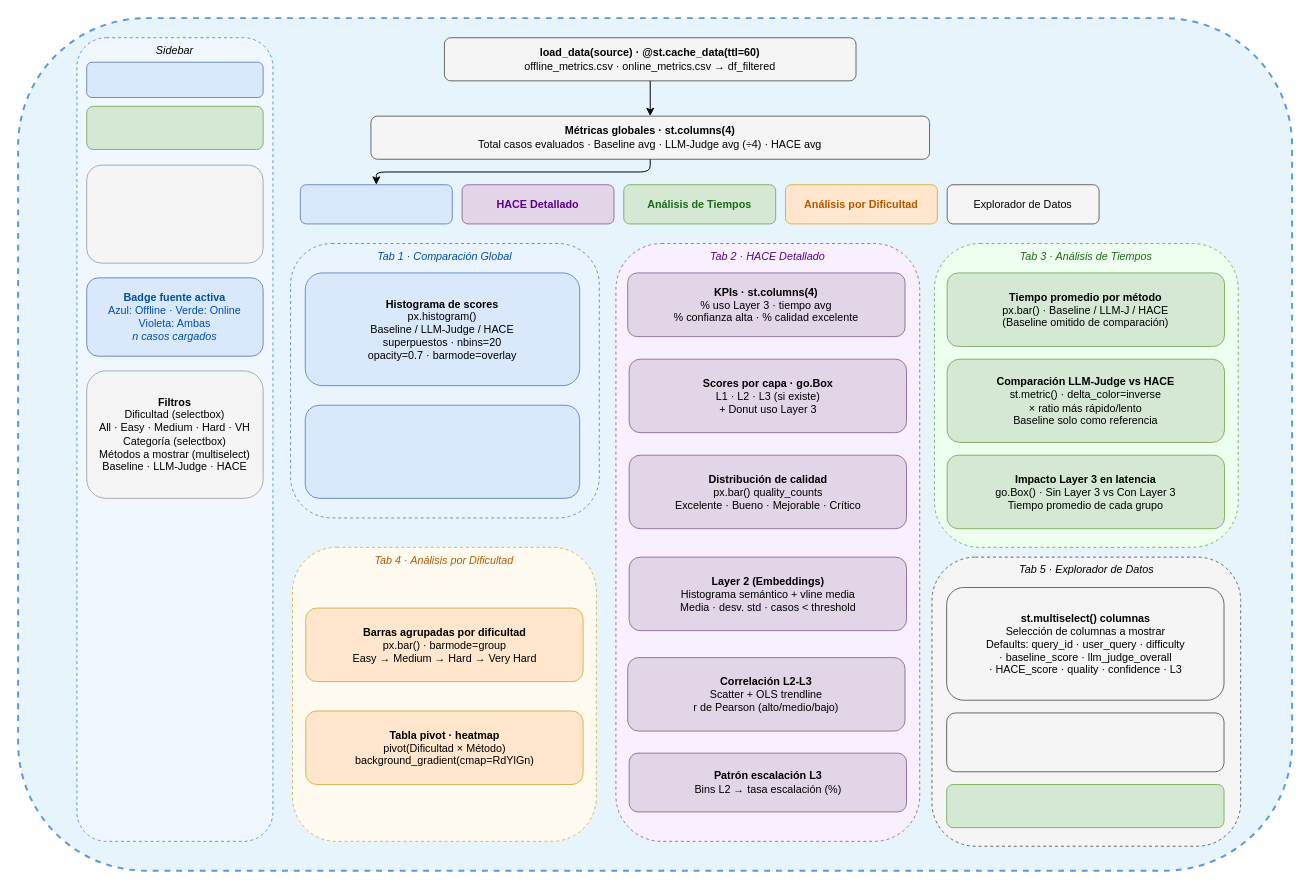
Some shapes in this 1309 by 888 pixel diagram are drawn without their labels. Here are the shapes that lost their labels. From the top down, the centre of each, then its label:
(174,79): Comité de Inversión
(174,127): ← Volver al Asesor Financiero st.switch_page("app.py")
(174,213): Fuente de Datos st.radio() ● Offline (dataset) ○ Online (chat) ○ Ambas
(375,204): Comparación Global
(442,451): Boxplot comparativo px.box() IQR · mediana · whiskers outliers individuales
(1085,742): st.dataframe() Tabla interactiva filtrada height=400
(1085,806): st.download_button() Descargar CSV filtrado
